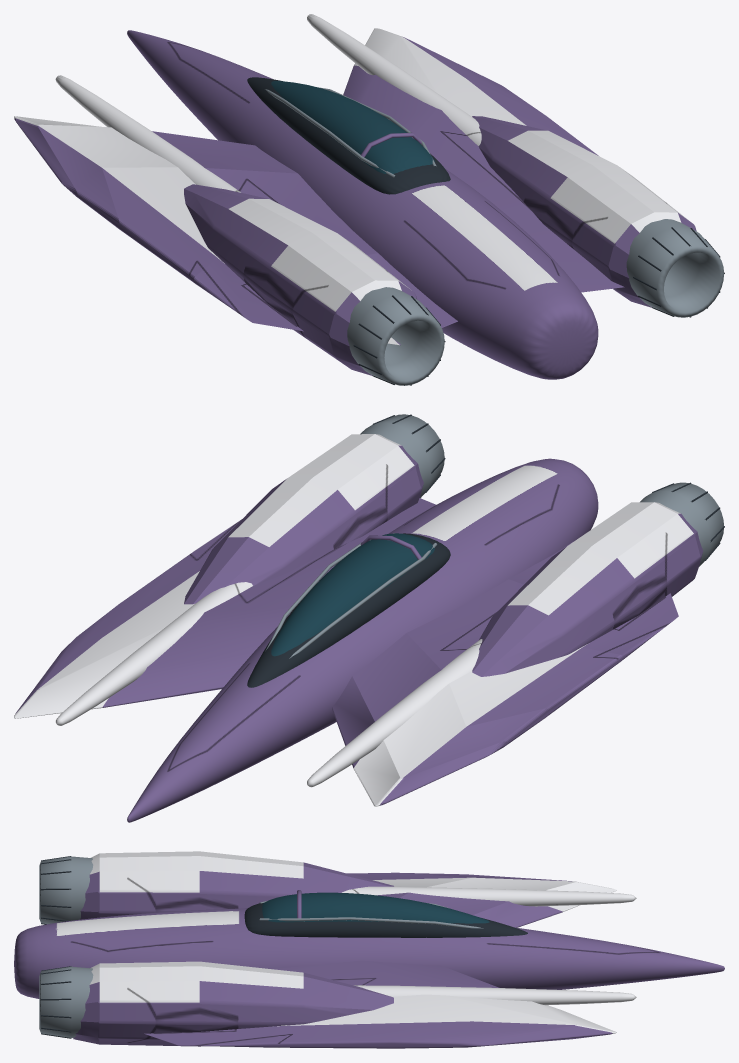
3 views of the same model, one above another, from view 1: azimuth 30°, elevation 25°; view 2: azimuth 150°, elevation 25°; view 3: azimuth 270°, elevation 25° (orthographic). The views are drawn at different scales.
Parts seen in each view (by area): view 1: GlacierScopeV2; view 2: GlacierScopeV2; view 3: GlacierScopeV2.
Part boxes in pixels (box(x1,y1,x2,y2)): GlacierScopeV2: box(14, 14, 724, 385); GlacierScopeV2: box(14, 414, 724, 822); GlacierScopeV2: box(14, 851, 724, 1048).
Bounding box in the file's own units: 2.12 × 0.6313 × 3.76.
Materials: 6 (2 with a texture image).
